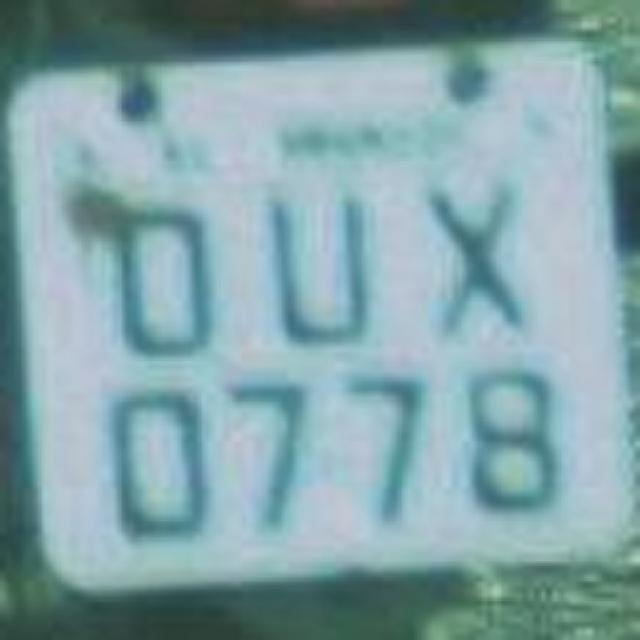0: (89, 356, 216, 549)
7: (208, 360, 324, 540), (325, 364, 440, 536)
8: (444, 351, 568, 544)
O: (100, 171, 228, 364)
U: (249, 169, 396, 356)
X: (400, 164, 540, 356)
